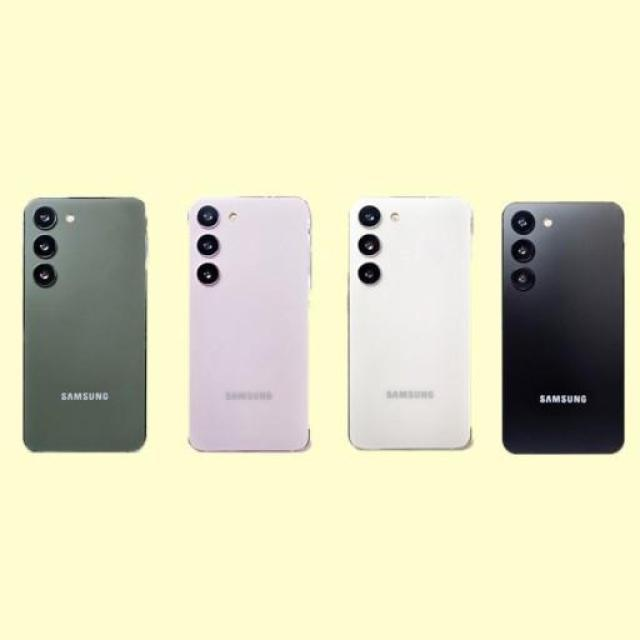cellphone: (346, 193, 475, 457), (501, 192, 629, 456), (23, 198, 148, 462), (191, 193, 311, 458)
